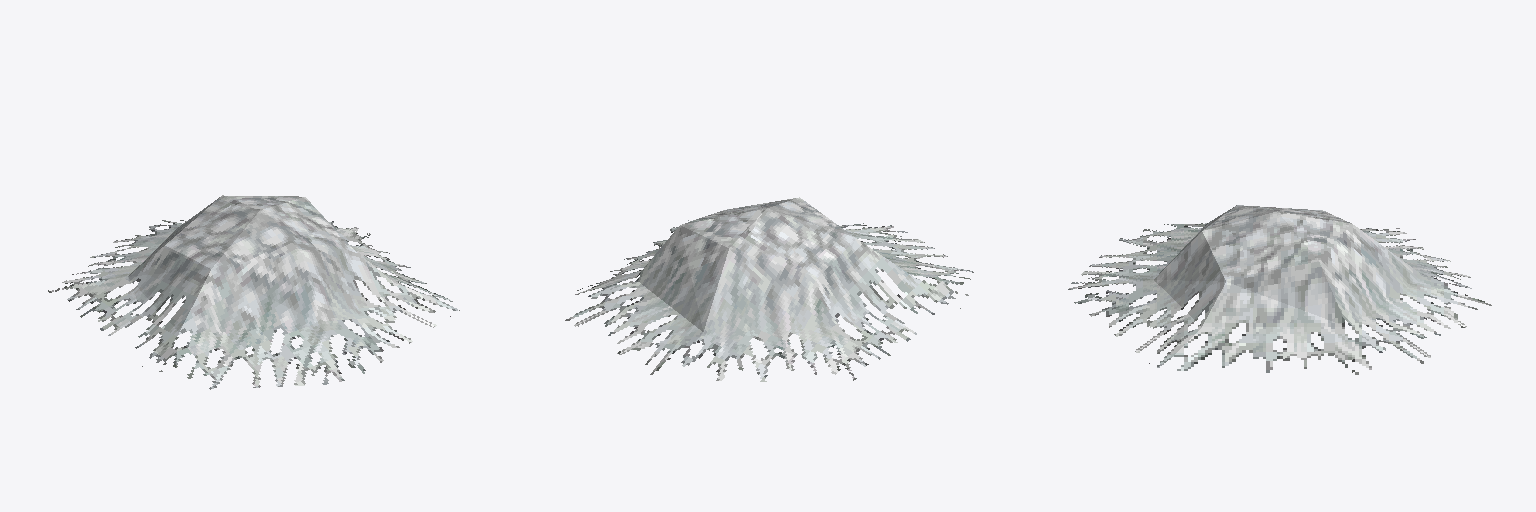
3 renders of one model, left to right at view 1: azimuth 30°, elevation 25°; view 2: azimuth 150°, elevation 25°; view 3: azimuth 270°, elevation 25°, orthographic.
Parts seen in each view (by area): view 1: cavekoboldspidereggsground; view 2: cavekoboldspidereggsground; view 3: cavekoboldspidereggsground.
Part boxes in pixels (x1,y1,x2,y2): cavekoboldspidereggsground: (48, 195, 459, 389); cavekoboldspidereggsground: (565, 197, 973, 381); cavekoboldspidereggsground: (1068, 205, 1491, 374).
Bounding box in the file's own units: 1.85 × 0.522 × 2.26.
2 materials, 2 textured.